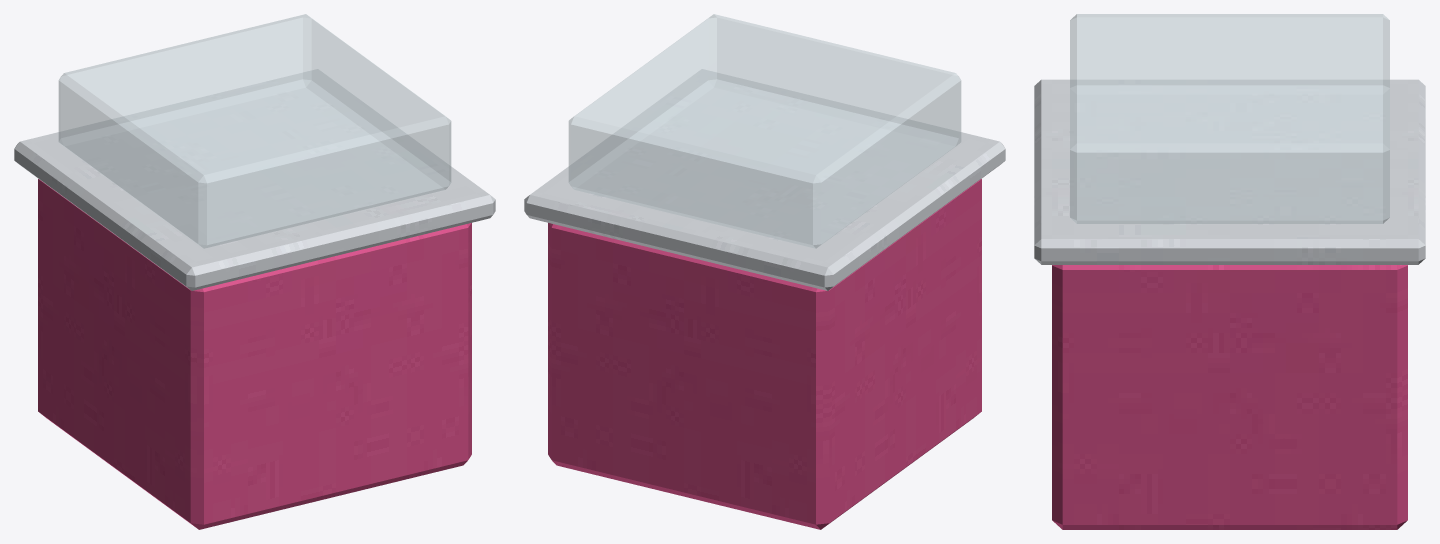
3 views of the same model, side by side, from view 1: azimuth 30°, elevation 25°; view 2: azimuth 150°, elevation 25°; view 3: azimuth 270°, elevation 25° (orthographic). The views are drawn at different scales.
Visible parts, largest first — view 1: Decor_cotton_candy_machine; view 2: Decor_cotton_candy_machine; view 3: Decor_cotton_candy_machine.
Part boxes in pixels (bbox=[...]): Decor_cotton_candy_machine: bbox=[14, 14, 495, 529]; Decor_cotton_candy_machine: bbox=[524, 14, 1005, 529]; Decor_cotton_candy_machine: bbox=[1034, 14, 1425, 529].
Size of the model in its own units: 1.1 by 1.18 by 1.1.
Materials: 3 (3 with a texture image).
